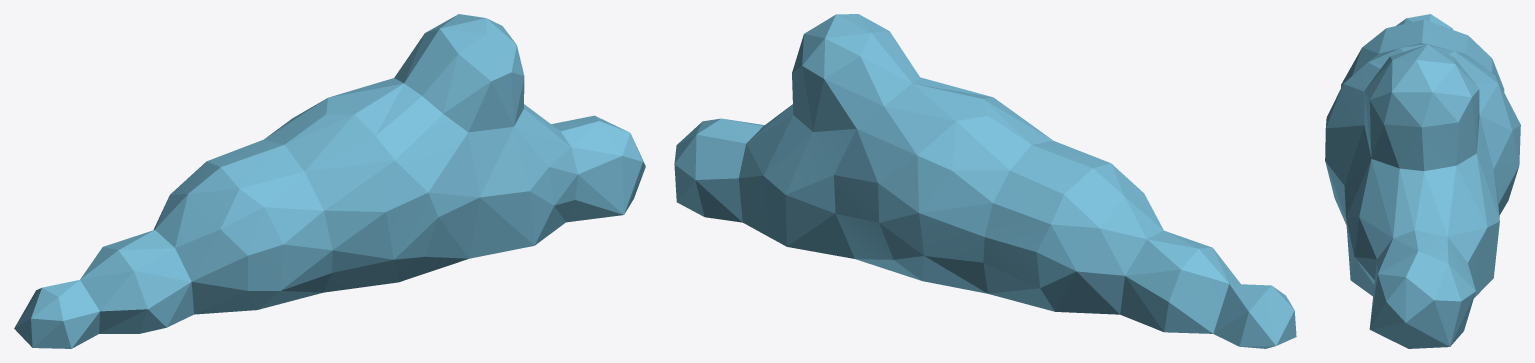
Rendered from small_cloud_25.fbx.
3 renders of one model, left to right at view 1: azimuth 30°, elevation 25°; view 2: azimuth 150°, elevation 25°; view 3: azimuth 270°, elevation 25°, orthographic. The views are drawn at different scales.
Visible parts, largest first — view 1: cloud_35; view 2: cloud_35; view 3: cloud_35.
Boxes of the visible parts, bbox=[...] form: cloud_35: bbox=[14, 14, 645, 348]; cloud_35: bbox=[674, 14, 1296, 348]; cloud_35: bbox=[1325, 14, 1520, 348].
Bounding box in the file's own units: 747 × 258 × 203.
